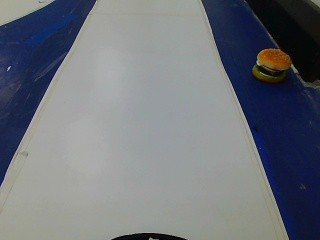burger: (252, 49, 294, 90)
